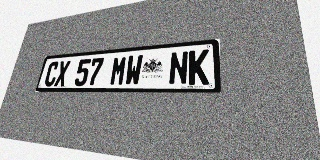5: (74, 59, 91, 86)
7: (86, 58, 104, 86)
C: (43, 61, 60, 86)
K: (188, 49, 209, 85)
M: (109, 56, 128, 86)
N: (168, 51, 189, 85)
W: (124, 54, 143, 85)
X: (54, 60, 71, 86)
